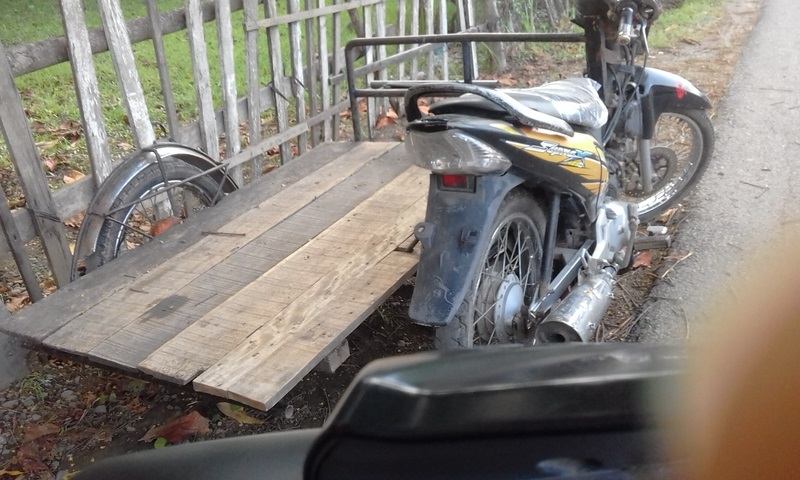becak barang: (5, 1, 731, 414)
